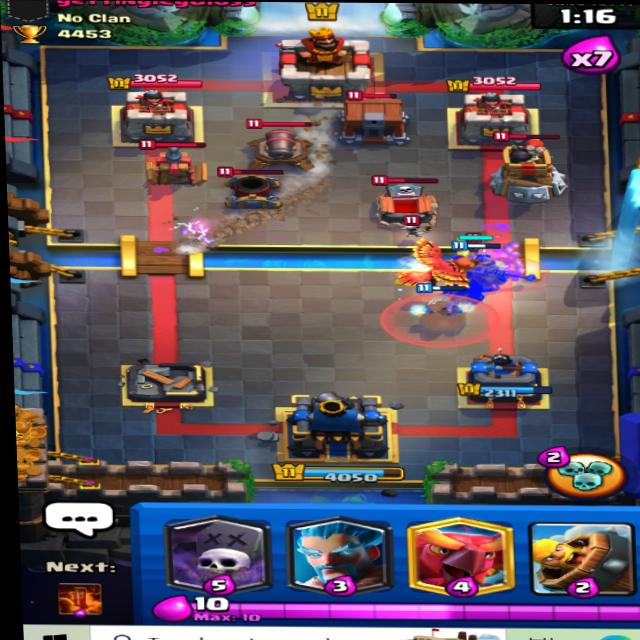bomb-tower: (490, 131, 570, 198)
cannon: (236, 115, 326, 174)
goblin-cage: (326, 87, 412, 140)
mortar: (211, 166, 293, 205)
skeleton: (394, 216, 422, 237)
tesla: (135, 132, 207, 188)
tombstone: (365, 171, 438, 232)
trail: (179, 204, 298, 256)
